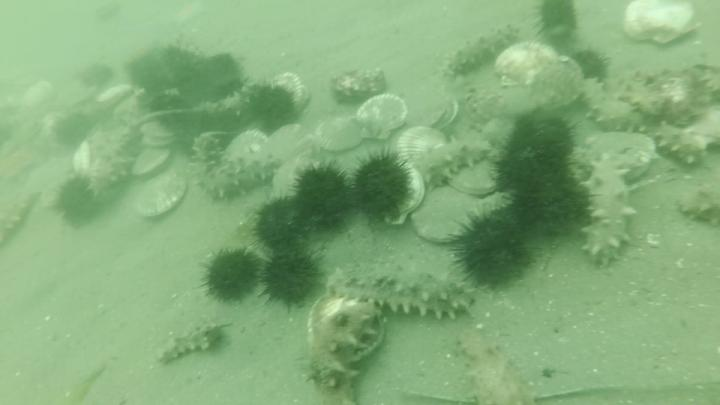echinus: (449, 210, 542, 295), (289, 159, 360, 235), (510, 177, 594, 239), (259, 242, 328, 314), (350, 151, 417, 222), (198, 242, 267, 310), (494, 142, 573, 197), (255, 191, 318, 258), (503, 109, 577, 160), (48, 177, 105, 233), (189, 52, 245, 104), (254, 84, 299, 129), (126, 52, 173, 93), (532, 2, 581, 40), (152, 93, 196, 132), (52, 112, 97, 150), (570, 48, 612, 83), (76, 60, 118, 92)
holothurian: (321, 263, 483, 323), (309, 299, 389, 405), (191, 130, 282, 206), (453, 328, 542, 405), (580, 152, 638, 267), (86, 102, 146, 205), (439, 22, 521, 79), (412, 140, 494, 188), (575, 75, 643, 132), (155, 320, 229, 369), (654, 120, 720, 171), (652, 70, 701, 130), (618, 71, 672, 124), (327, 66, 390, 107), (676, 175, 720, 232), (1, 190, 38, 251), (459, 83, 505, 128), (196, 85, 254, 115), (691, 63, 720, 102)
scallop: (307, 291, 391, 369), (413, 183, 490, 247), (575, 130, 658, 182), (623, 1, 708, 51), (494, 40, 563, 91), (254, 123, 328, 170), (528, 56, 586, 112), (132, 170, 192, 223), (355, 94, 410, 144), (268, 155, 325, 202), (389, 161, 428, 229), (446, 160, 509, 200), (395, 126, 451, 168), (314, 116, 367, 155), (131, 142, 178, 184), (268, 70, 311, 115), (221, 129, 273, 164), (140, 119, 181, 148), (96, 79, 135, 108), (24, 79, 57, 109), (71, 140, 94, 179)
